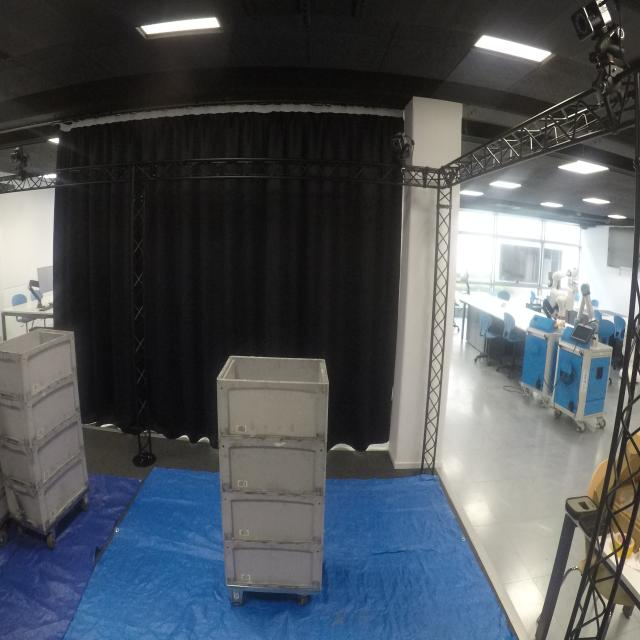Box4G: (217, 351, 332, 448), (4, 451, 93, 534), (2, 413, 83, 495), (218, 442, 330, 501), (0, 323, 79, 402), (1, 374, 78, 454), (222, 544, 328, 595), (218, 498, 324, 547)
